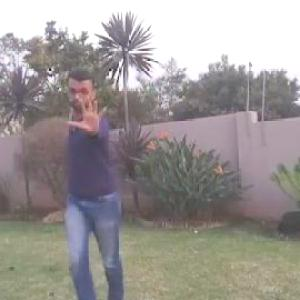follow_hand: (66, 91, 110, 137)
